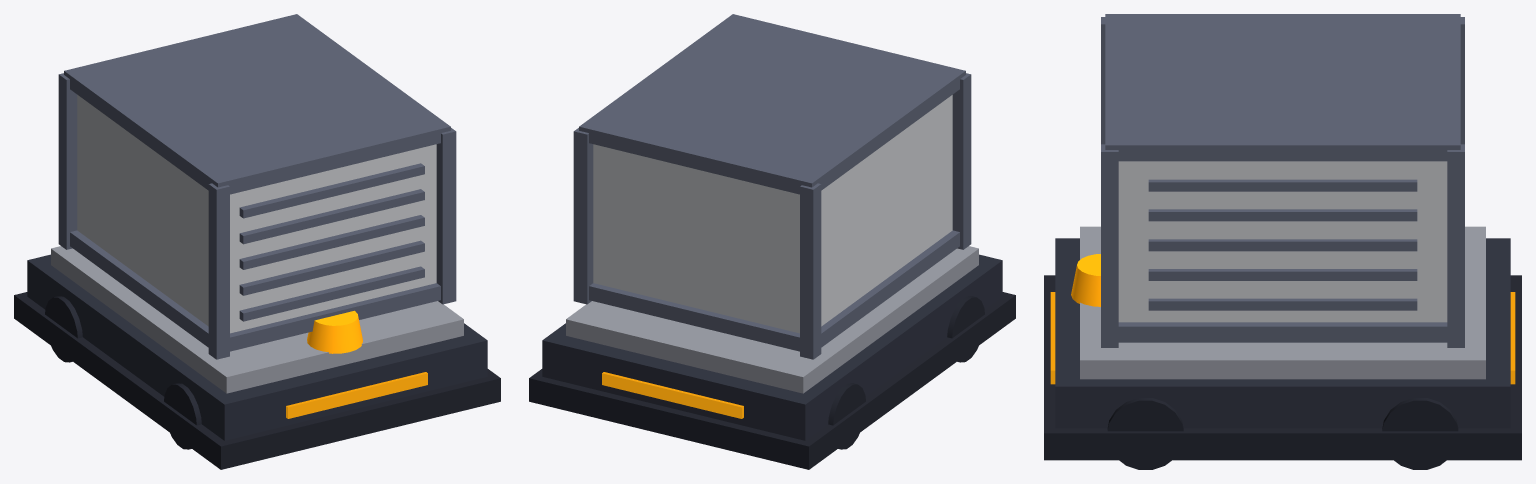
Rendered from amr.glb.
3 renders of one model, left to right at view 1: azimuth 30°, elevation 25°; view 2: azimuth 150°, elevation 25°; view 3: azimuth 270°, elevation 25°, orthographic. The views are drawn at different scales.
Parts seen in each view (by area): view 1: cargo, amr; view 2: cargo, amr; view 3: cargo, amr.
Boxes of the visible parts, x1,y1,x2,y2 form: cargo: (58,14,456,359); amr: (14,246,500,469); cargo: (573,14,971,359); amr: (529,246,1015,469); cargo: (1101,14,1464,347); amr: (1044,226,1521,469).
Bounding box in the file's own units: 2.5 × 2.32 × 3.2.
